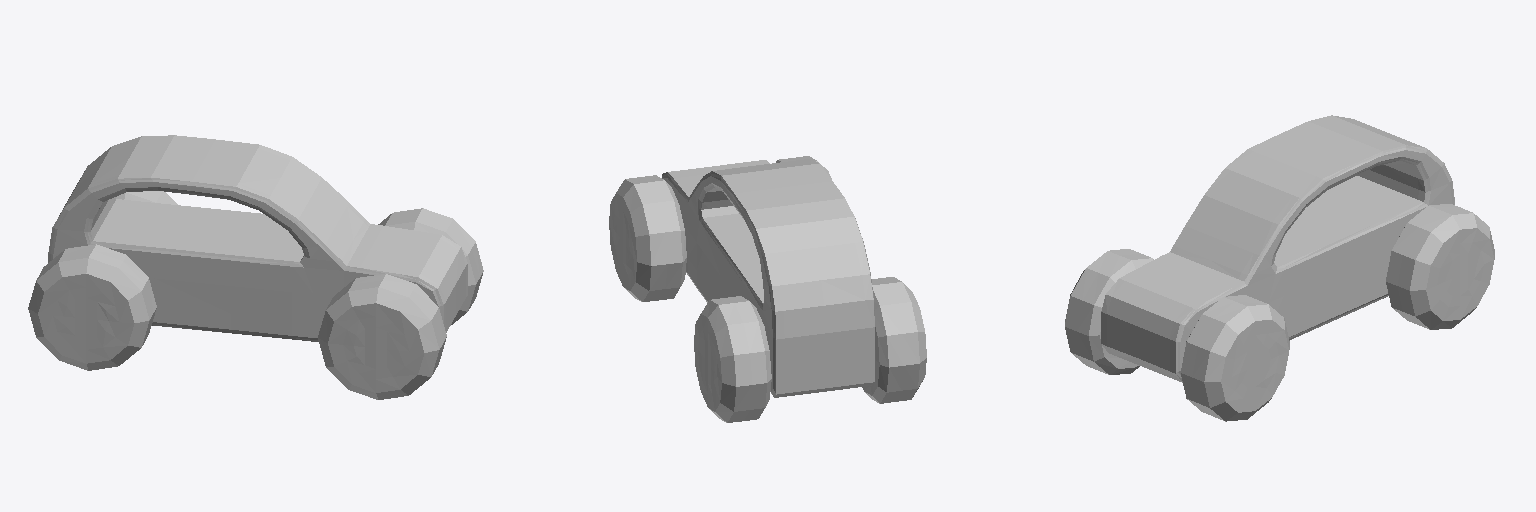
The model's file is Carro_de_Brinquedo_1.obj.
3 renders of one model, left to right at view 1: azimuth 30°, elevation 25°; view 2: azimuth 150°, elevation 25°; view 3: azimuth 270°, elevation 25°, orthographic.
Visible parts, largest first — view 1: Toy_Train:car_small1; view 2: Toy_Train:car_small1; view 3: Toy_Train:car_small1.
Part boxes in pixels (left/top/right/bottom): Toy_Train:car_small1: left=28, top=135, right=483, bottom=399; Toy_Train:car_small1: left=609, top=156, right=926, bottom=422; Toy_Train:car_small1: left=1065, top=115, right=1494, bottom=421.
Bounding box in the file's own units: 0.2188 × 0.0994 × 0.2148.